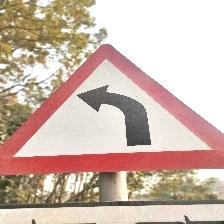Left-Turn: (0, 45, 222, 210)
